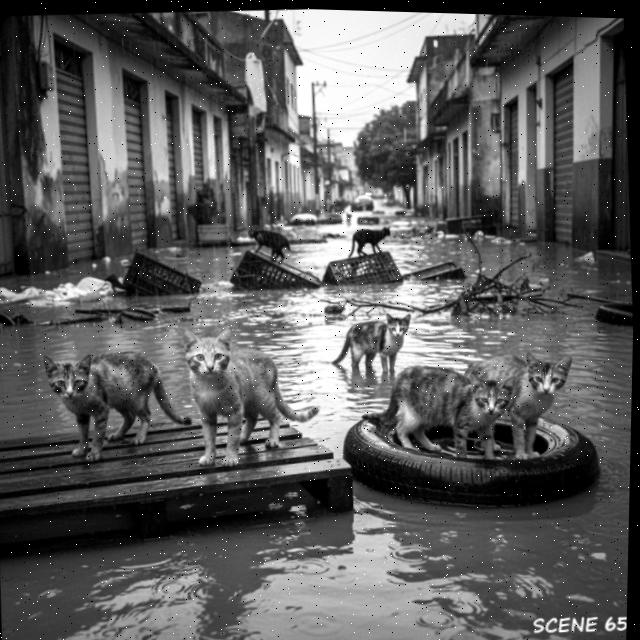cat: (172, 321, 316, 483), (40, 339, 194, 471), (357, 361, 513, 467), (461, 345, 579, 471), (324, 307, 406, 381), (236, 220, 301, 274), (340, 217, 397, 260)
